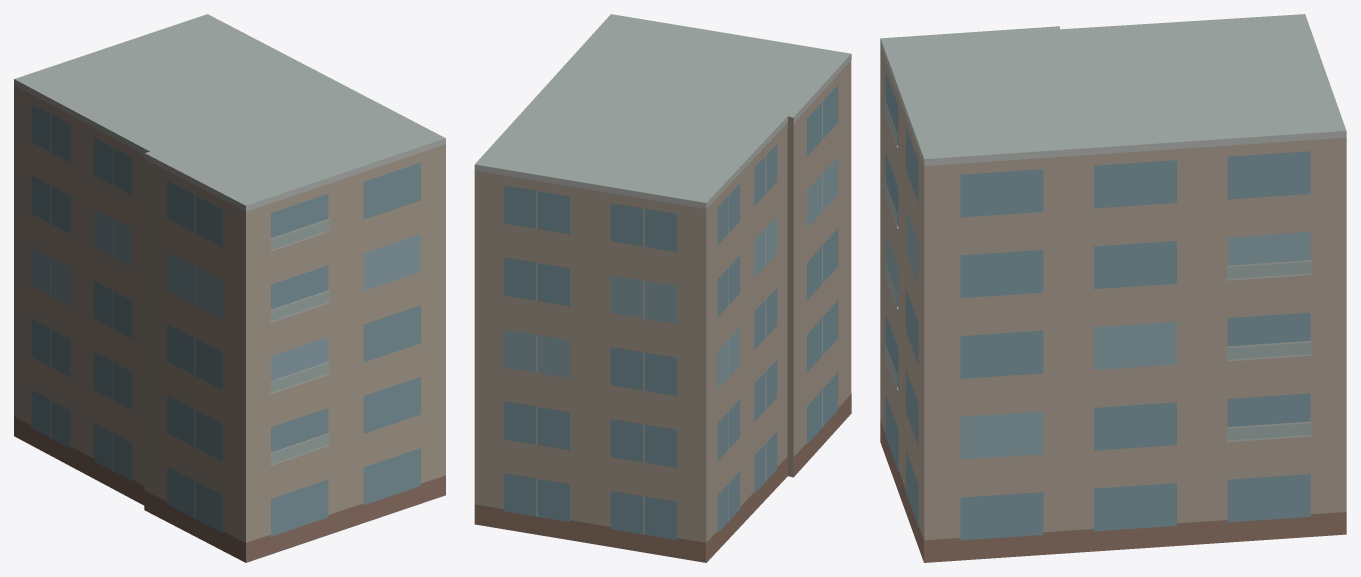
The model's file is survey-upis-32717835.glb.
The picture shows the model from 3 angles, left to right: view 1: azimuth 30°, elevation 25°; view 2: azimuth 150°, elevation 25°; view 3: azimuth 270°, elevation 25°; orthographic projection. The views are drawn at different scales.
Visible parts, largest first — view 1: survey-upis-32717835.tmp; view 2: survey-upis-32717835.tmp; view 3: survey-upis-32717835.tmp.
Boxes of the visible parts, <box> form: survey-upis-32717835.tmp: <box>14,14,445,562</box>; survey-upis-32717835.tmp: <box>474,14,851,562</box>; survey-upis-32717835.tmp: <box>880,14,1346,562</box>.
Size of the model in its own units: 11.2 by 14.5 by 15.19.
